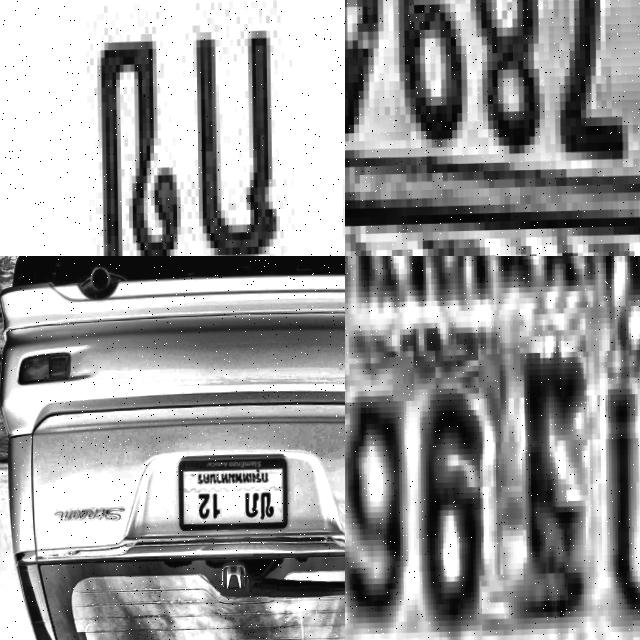license-plate: (345, 256, 640, 640), (0, 0, 345, 256), (345, 0, 640, 256), (174, 451, 289, 537)
